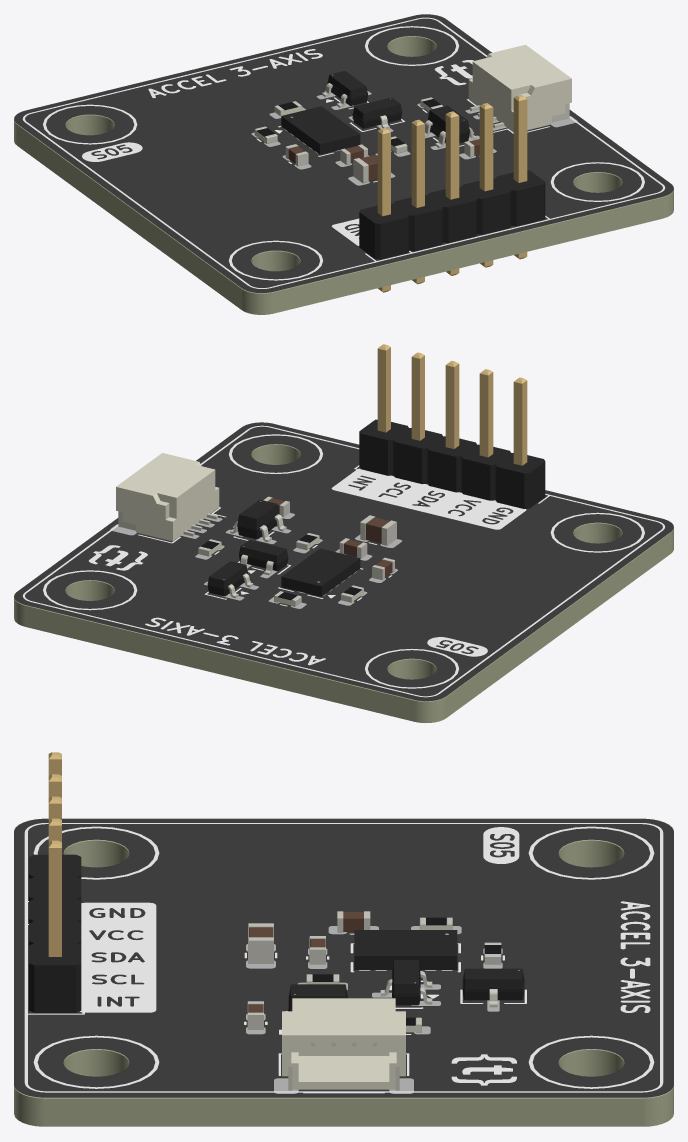
The picture shows the model from 3 angles, top to bottom: view 1: azimuth 30°, elevation 25°; view 2: azimuth 150°, elevation 25°; view 3: azimuth 270°, elevation 25°; orthographic projection. The views are drawn at different scales.
Visible parts, largest first — view 1: =>[0:1:1:13], =>[0:1:1:15], J1, =>[0:1:1:11], J3, U1, Q1, =>[0:1:1:10], Q2, U2, C4; view 2: =>[0:1:1:13], =>[0:1:1:15], J1, =>[0:1:1:11], J3, U1, =>[0:1:1:10], U2, Q1, Q2, C4; view 3: =>[0:1:1:13], =>[0:1:1:15], =>[0:1:1:11], J3, J1, U1, Q2, =>[0:1:1:10], Q1, C4, U2, C2.
Boxes of the visible parts, <box> form: =>[0:1:1:13]: <box>14,14,673,292</box>; =>[0:1:1:15]: <box>14,36,673,314</box>; J1: <box>359,94,545,292</box>; =>[0:1:1:11]: <box>22,17,665,288</box>; J3: <box>468,44,571,131</box>; U1: <box>281,106,360,154</box>; Q1: <box>352,97,402,129</box>; =>[0:1:1:10]: <box>251,91,577,185</box>; Q2: <box>322,71,367,107</box>; U2: <box>425,105,476,148</box>; C4: <box>353,153,377,183</box>; =>[0:1:1:13]: <box>14,422,673,701</box>; =>[0:1:1:15]: <box>14,444,673,722</box>; J1: <box>359,344,545,508</box>; =>[0:1:1:11]: <box>23,425,664,697</box>; J3: <box>116,453,219,541</box>; U1: <box>281,548,360,596</box>; =>[0:1:1:10]: <box>110,513,401,608</box>; U2: <box>230,499,286,542</box>; Q1: <box>239,540,288,575</box>; Q2: <box>207,561,253,598</box>; C4: <box>360,515,396,545</box>; =>[0:1:1:13]: <box>14,818,673,1097</box>; =>[0:1:1:15]: <box>14,839,673,1126</box>; =>[0:1:1:11]: <box>24,823,663,1093</box>; J3: <box>282,998,405,1090</box>; J1: <box>29,752,81,1012</box>; U1: <box>354,930,457,969</box>; Q2: <box>462,968,524,1007</box>; =>[0:1:1:10]: <box>246,926,502,1093</box>; Q1: <box>380,960,432,1005</box>; C4: <box>248,923,273,963</box>; U2: <box>288,984,348,1011</box>; C2: <box>337,911,370,932</box>.
Bounding box in the file's own units: 0.032 × 0.0115 × 0.032.
